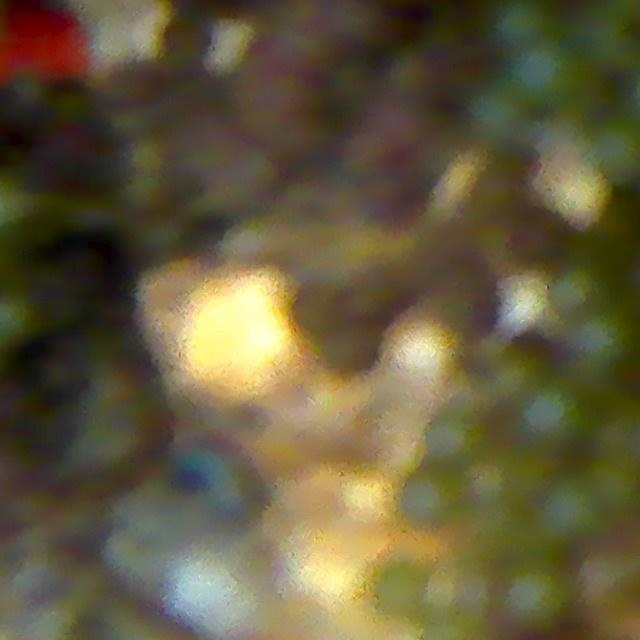SeaGrape: (529, 468, 612, 554), (495, 555, 578, 638), (506, 36, 587, 113), (563, 302, 639, 382), (575, 532, 640, 625), (517, 378, 589, 452), (581, 449, 640, 524), (397, 466, 463, 531), (424, 404, 485, 467), (373, 559, 429, 618)
